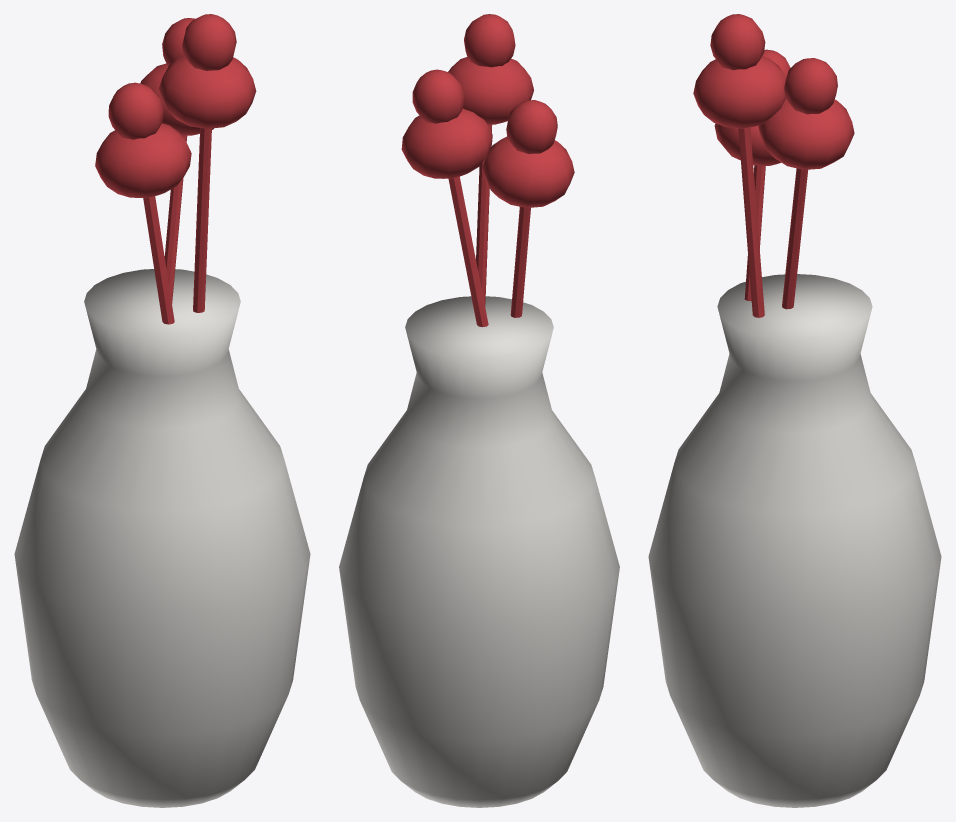
File: PRP_Vase.fbx
3 renders of one model, left to right at view 1: azimuth 30°, elevation 25°; view 2: azimuth 150°, elevation 25°; view 3: azimuth 270°, elevation 25°, orthographic. The views are drawn at different scales.
Parts seen in each view (by area): view 1: Vase_Body, Vase_Roses; view 2: Vase_Body, Vase_Roses; view 3: Vase_Body, Vase_Roses.
Boxes of the visible parts, x1=… form: Vase_Body: x1=14, y1=269, x2=310, y2=807; Vase_Roses: x1=95, y1=14, x2=256, y2=324; Vase_Body: x1=339, y1=296, x2=619, y2=807; Vase_Roses: x1=401, y1=14, x2=574, y2=327; Vase_Body: x1=648, y1=274, x2=941, y2=807; Vase_Roses: x1=693, y1=14, x2=854, y2=317.
Size of the model in its own units: 17 by 49.13 by 17.
